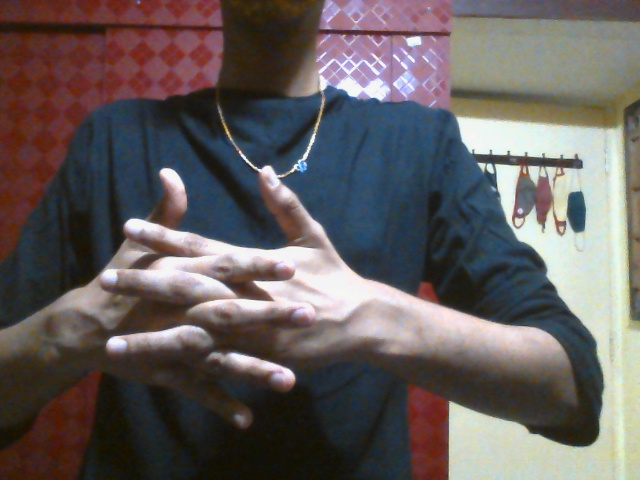W: (88, 163, 338, 432)
